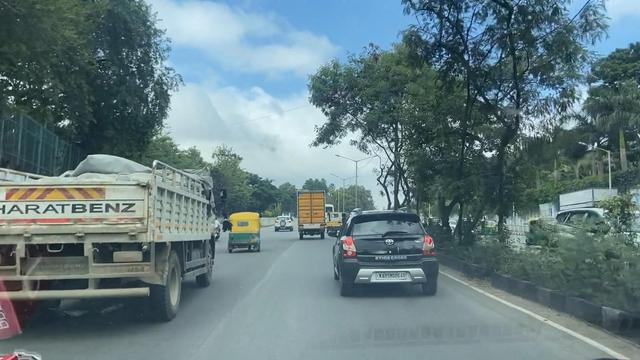HMV: (0, 164, 229, 308), (294, 188, 326, 237)
LMV: (332, 216, 442, 306), (230, 213, 261, 253)
